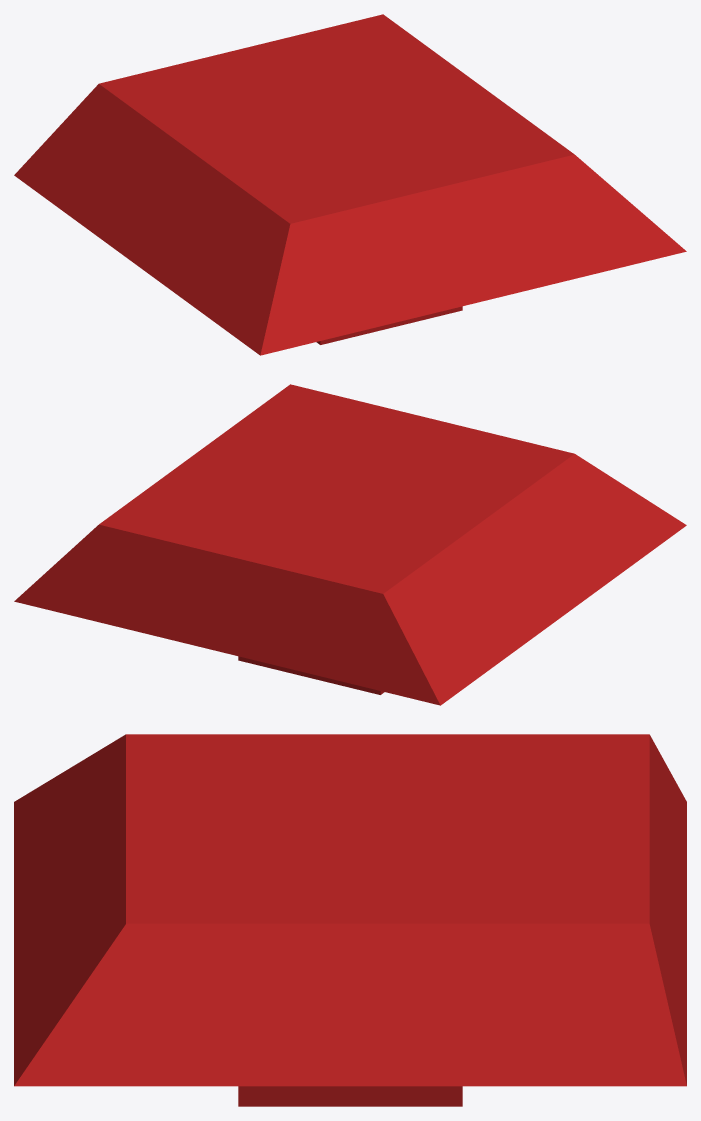
Rendered from original-87.obj.
The picture shows the model from 3 angles, top to bottom: view 1: azimuth 30°, elevation 25°; view 2: azimuth 150°, elevation 25°; view 3: azimuth 270°, elevation 25°; orthographic projection. The views are drawn at different scales.
Parts seen in each view (by area): view 1: KB_-_Key_1_56/KB_-_Key_1/mesh13/mesh13-geometry#mesh13-geometry; view 2: KB_-_Key_1_56/KB_-_Key_1/mesh13/mesh13-geometry#mesh13-geometry; view 3: KB_-_Key_1_56/KB_-_Key_1/mesh13/mesh13-geometry#mesh13-geometry.
Part boxes in pixels (x1,y1,x2,y2): KB_-_Key_1_56/KB_-_Key_1/mesh13/mesh13-geometry#mesh13-geometry: (14, 14, 686, 355); KB_-_Key_1_56/KB_-_Key_1/mesh13/mesh13-geometry#mesh13-geometry: (14, 384, 686, 705); KB_-_Key_1_56/KB_-_Key_1/mesh13/mesh13-geometry#mesh13-geometry: (14, 734, 686, 1106).
Size of the model in its own units: 0.0764 by 0.0289 by 0.0764.
